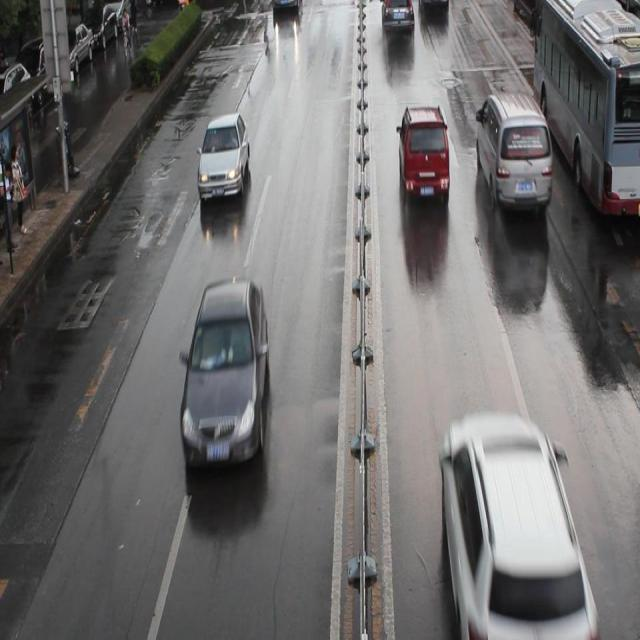car: (439, 410, 597, 640), (180, 276, 269, 472), (398, 105, 449, 202), (197, 111, 250, 198), (381, 1, 414, 31), (419, 1, 448, 10), (272, 1, 301, 10)
truck: (474, 90, 551, 206)
van: (532, 1, 640, 218)
